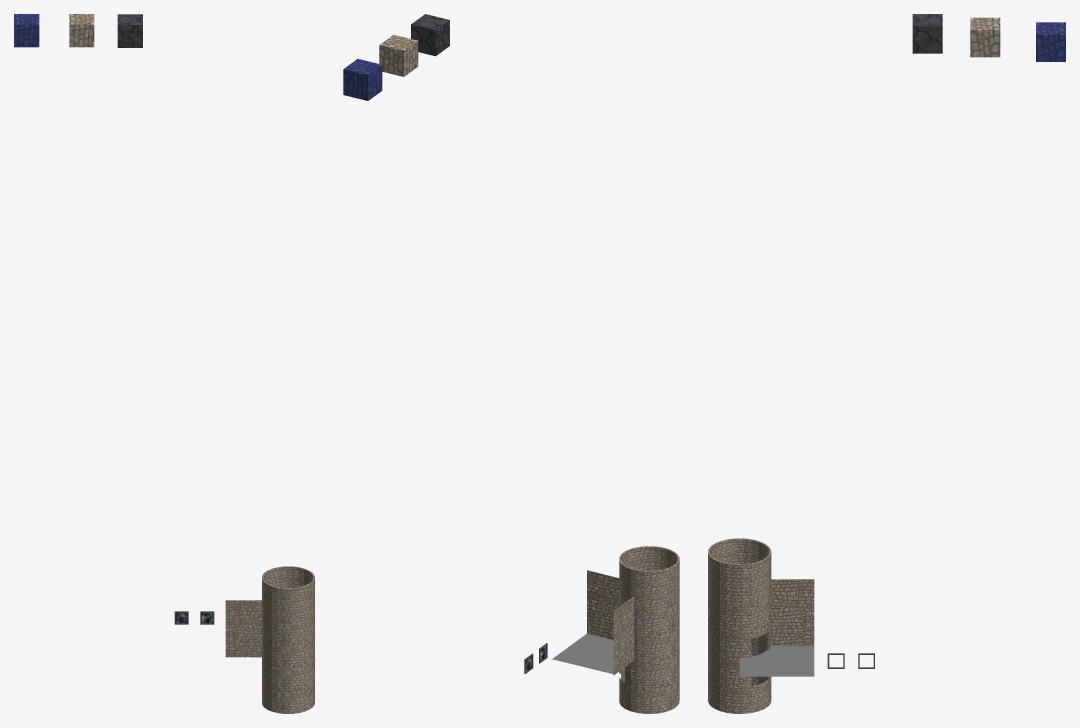
The model's file is testsmallcastle.glb.
The picture shows the model from 3 angles, left to right: view 1: azimuth 90°, elevation 25°; view 2: azimuth 150°, elevation 25°; view 3: azimuth 270°, elevation 25°; orthographic projection. The views are drawn at different scales.
Parts seen in each view (by area): view 1: Turret Entr.002, Top.009, Cylinder.019, Cylinder.046, Middle.002, Top.008, Top.010, Cube.010, Cube.012, Cube.014, Top.007; view 2: Turret Entr.002, Top.009, Top.008, Cylinder.019, Cube.014, Cube.012, Cube.010, Middle.002, Top.010, Cylinder.046, Top.007; view 3: Turret Entr.002, Top.008, Top.009, Middle.002, Cylinder.046, Top.010, Cylinder.019, Cube.012, Cube.010, Cube.014, Top.007.
Boxes of the visible parts, box(x1,y1,x2,y2) form: Turret Entr.002: box(225, 600, 261, 657); Top.009: box(262, 566, 314, 599); Cylinder.019: box(262, 658, 314, 691); Cylinder.046: box(262, 636, 314, 668); Middle.002: box(262, 613, 314, 645); Top.008: box(262, 681, 314, 713); Top.010: box(262, 578, 314, 611); Cube.010: box(117, 14, 142, 47); Cube.012: box(69, 14, 94, 47); Cube.014: box(14, 14, 39, 47); Top.007: box(262, 601, 314, 622); Turret Entr.002: box(552, 570, 634, 675); Top.009: box(619, 546, 679, 584); Top.008: box(619, 669, 679, 713); Cylinder.019: box(619, 649, 679, 687); Cube.014: box(343, 59, 382, 100); Cube.012: box(379, 34, 418, 76); Cube.010: box(411, 14, 449, 56); Middle.002: box(619, 597, 679, 636); Top.010: box(619, 560, 679, 597); Cylinder.046: box(634, 623, 679, 662); Top.007: box(619, 584, 679, 610); Turret Entr.002: box(739, 579, 814, 676); Top.008: box(708, 675, 771, 713); Top.009: box(708, 538, 771, 578); Middle.002: box(708, 593, 771, 632); Cylinder.046: box(708, 620, 771, 659); Top.010: box(708, 552, 771, 591); Cylinder.019: box(708, 637, 769, 686); Cube.012: box(970, 17, 1000, 57); Cube.010: box(912, 14, 942, 53); Cube.014: box(1036, 22, 1065, 61); Top.007: box(708, 579, 771, 605).
Size of what is drawn, in the model's own units: 28.49 by 110 by 47.89.
Materials: 10 (10 with a texture image).
